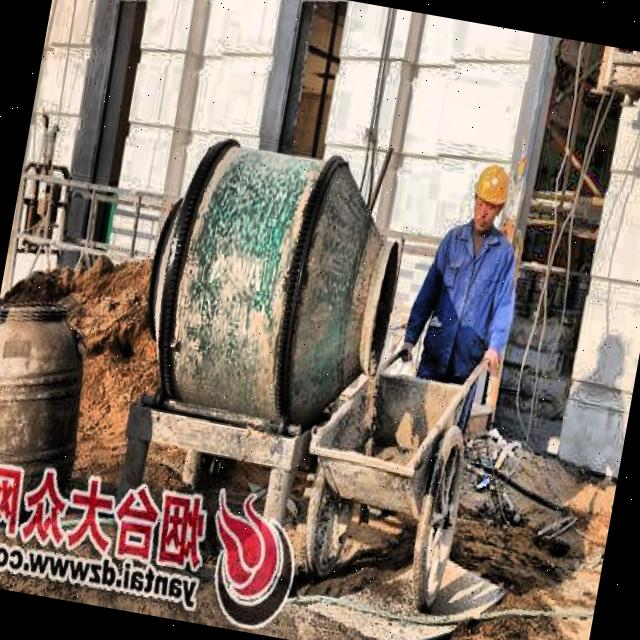helmet: (462, 154, 516, 236)
